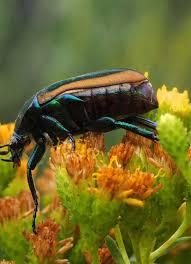Insects: (0, 62, 164, 238)
